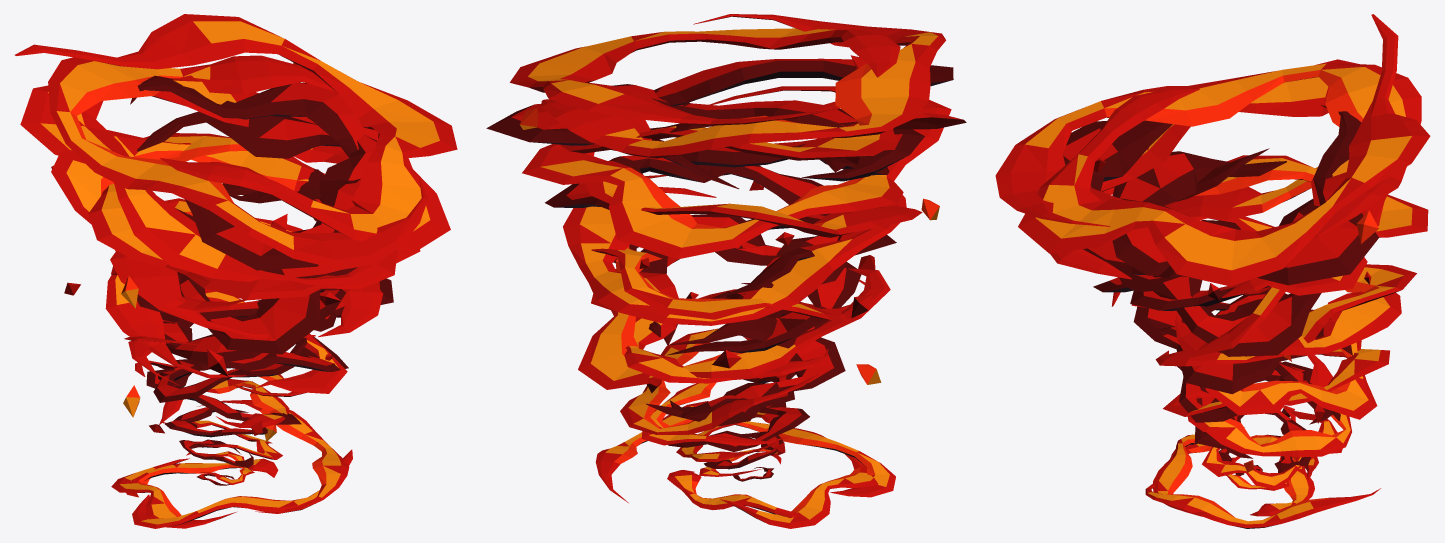
File: Firenado.fbx
3 renders of one model, left to right at view 1: azimuth 30°, elevation 25°; view 2: azimuth 150°, elevation 25°; view 3: azimuth 270°, elevation 25°, orthographic. The views are drawn at different scales.
Parts seen in each view (by area): view 1: Wind_Ribbon_25.002, Wind_Ribbon_24.002, Wind_Ribbon_22.004, Wind_Ribbon_23.003, Wind_Ribbon_18.004, Wind_Ribbon_20.004, Wind_Ribbon_21.004, Wind_Ribbon_17.004, Wind_Ribbon_14.005, Wind_Ribbon_10.006, Ground_Shear_4.002, Ground_Shear_3.002 (+13 smaller); view 2: Wind_Ribbon_24.002, Wind_Ribbon_20.004, Wind_Ribbon_25.002, Wind_Ribbon_16.005, Wind_Ribbon_12.005, Wind_Ribbon_23.003, Wind_Ribbon_22.004, Wind_Ribbon_13.005, Wind_Ribbon_19.004, Wind_Ribbon_18.004, Wind_Ribbon_14.005, Wind_Ribbon_21.004 (+15 smaller); view 3: Wind_Ribbon_25.002, Wind_Ribbon_24.002, Wind_Ribbon_23.003, Wind_Ribbon_19.004, Wind_Ribbon_22.004, Wind_Ribbon_18.004, Wind_Ribbon_20.004, Wind_Ribbon_12.005, Wind_Ribbon_16.005, Wind_Ribbon_14.005, Wind_Ribbon_08.006, Wind_Ribbon_15.005 (+11 smaller).
Part boxes in pixels (box(x1,y1,x2,y2)): Wind_Ribbon_25.002: box(15, 14, 457, 252); Wind_Ribbon_24.002: box(48, 55, 427, 269); Wind_Ribbon_22.004: box(20, 75, 397, 289); Wind_Ribbon_23.003: box(130, 75, 379, 270); Wind_Ribbon_18.004: box(51, 130, 420, 339); Wind_Ribbon_20.004: box(88, 133, 348, 300); Wind_Ribbon_21.004: box(137, 111, 376, 290); Wind_Ribbon_17.004: box(178, 169, 324, 354); Wind_Ribbon_14.005: box(105, 198, 383, 377); Wind_Ribbon_10.006: box(128, 288, 347, 393); Ground_Shear_4.002: box(197, 400, 349, 513); Ground_Shear_3.002: box(132, 449, 352, 528); Wind_Ribbon_24.002: box(540, 14, 945, 158); Wind_Ribbon_20.004: box(522, 100, 951, 259); Wind_Ribbon_25.002: box(510, 28, 900, 125); Wind_Ribbon_16.005: box(563, 187, 906, 325); Wind_Ribbon_12.005: box(578, 242, 890, 389); Wind_Ribbon_23.003: box(486, 58, 953, 145); Wind_Ribbon_22.004: box(560, 86, 966, 160); Wind_Ribbon_13.005: box(640, 214, 861, 348); Wind_Ribbon_19.004: box(545, 129, 924, 209); Wind_Ribbon_18.004: box(586, 175, 922, 237); Wind_Ribbon_14.005: box(591, 246, 865, 321); Wind_Ribbon_21.004: box(611, 84, 889, 189); Wind_Ribbon_25.002: box(1018, 14, 1430, 286); Wind_Ribbon_24.002: box(995, 63, 1421, 239); Wind_Ribbon_23.003: box(1062, 105, 1378, 285); Wind_Ribbon_19.004: box(1112, 151, 1321, 356); Wind_Ribbon_22.004: box(1050, 59, 1387, 298); Wind_Ribbon_18.004: box(1111, 167, 1384, 357); Wind_Ribbon_20.004: box(1102, 155, 1428, 295); Wind_Ribbon_12.005: box(1205, 340, 1377, 419); Wind_Ribbon_16.005: box(1175, 216, 1401, 355); Wind_Ribbon_14.005: box(1155, 264, 1416, 366); Wind_Ribbon_08.006: box(1198, 355, 1351, 457); Wind_Ribbon_15.005: box(1133, 220, 1330, 394).
Bounding box in the file's own units: 903 × 978 × 938.
